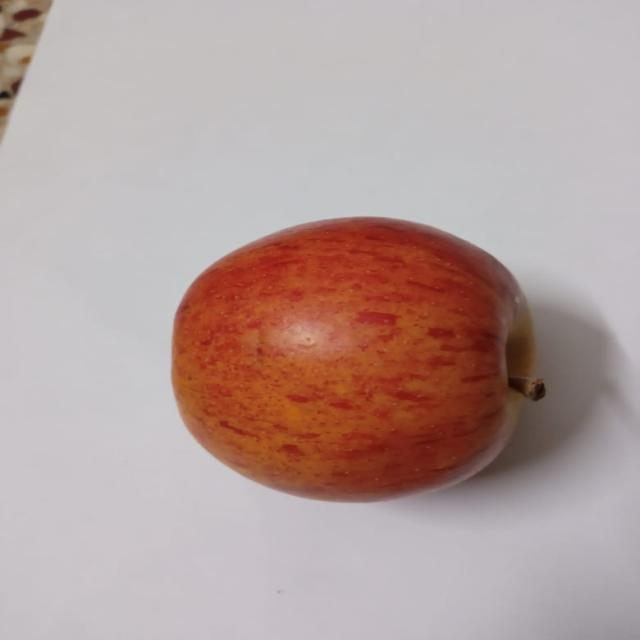fresh_apple: (168, 214, 538, 502)
